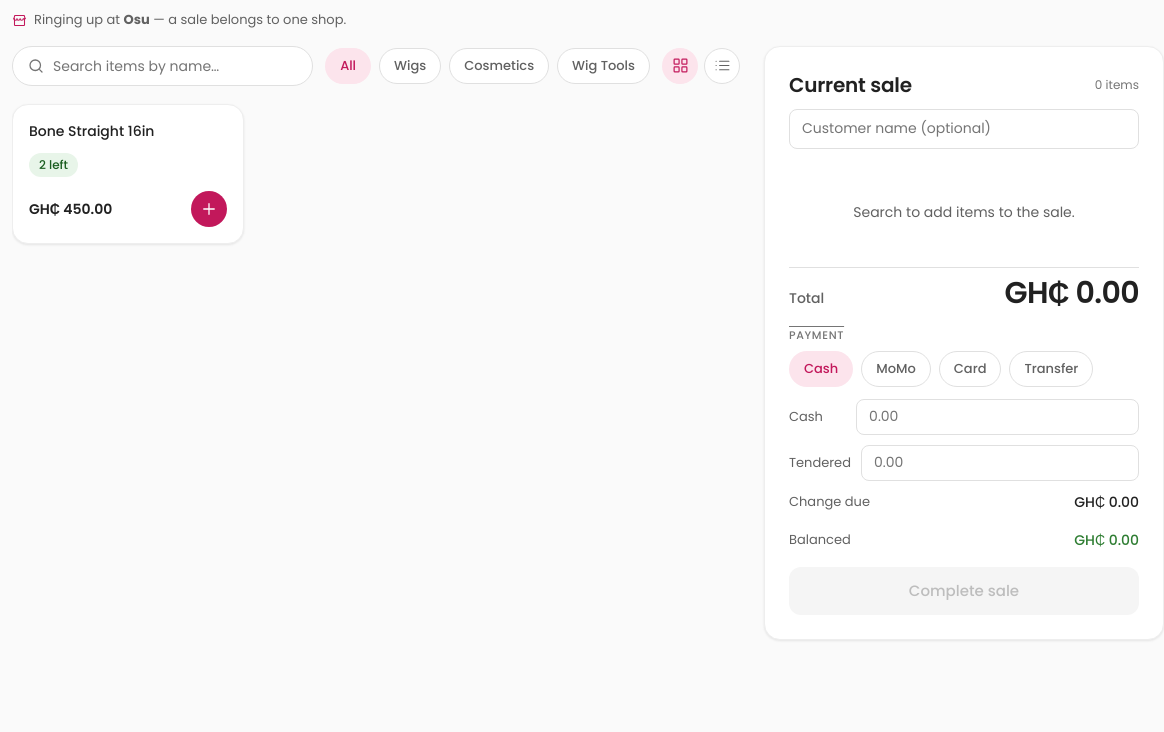
Test: SellView — background stock refresh and clamping (#31) › drops a line that has sold out entirely
Click the button named "Add Bone Straight 16in". click: (209, 209)
box: [191,191,227,227]
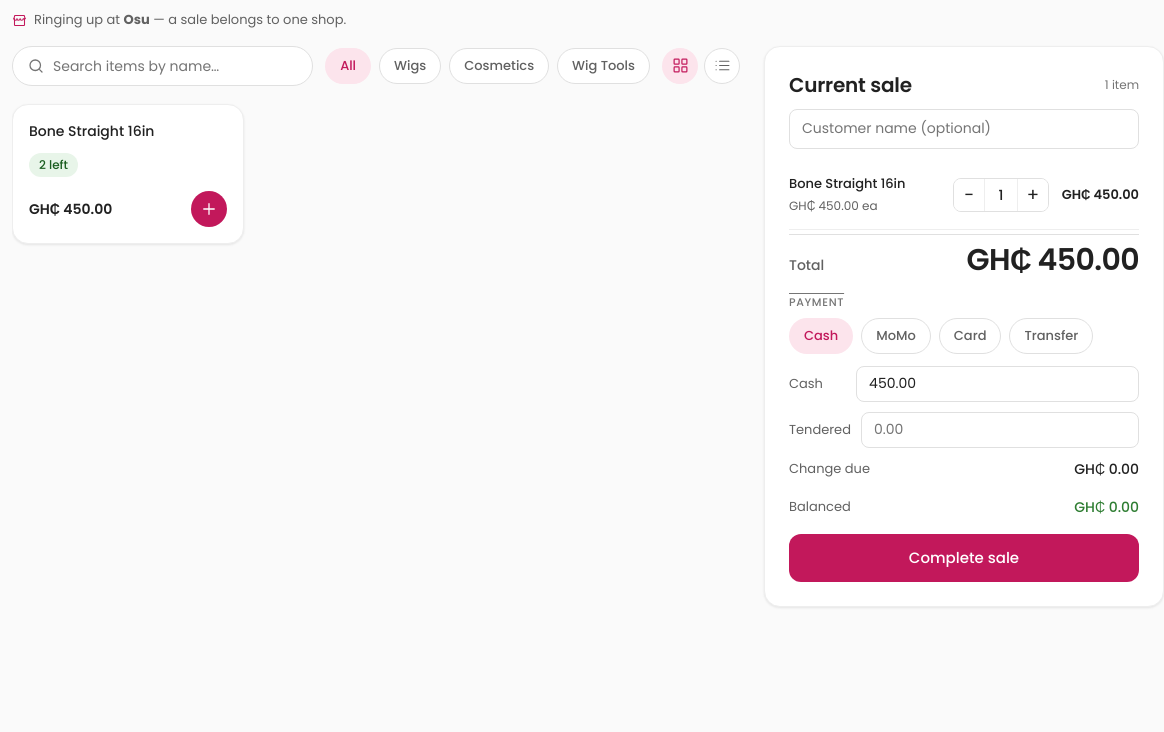
Click the button "Complete sale". click: (964, 558)
box: [789,534,1139,582]
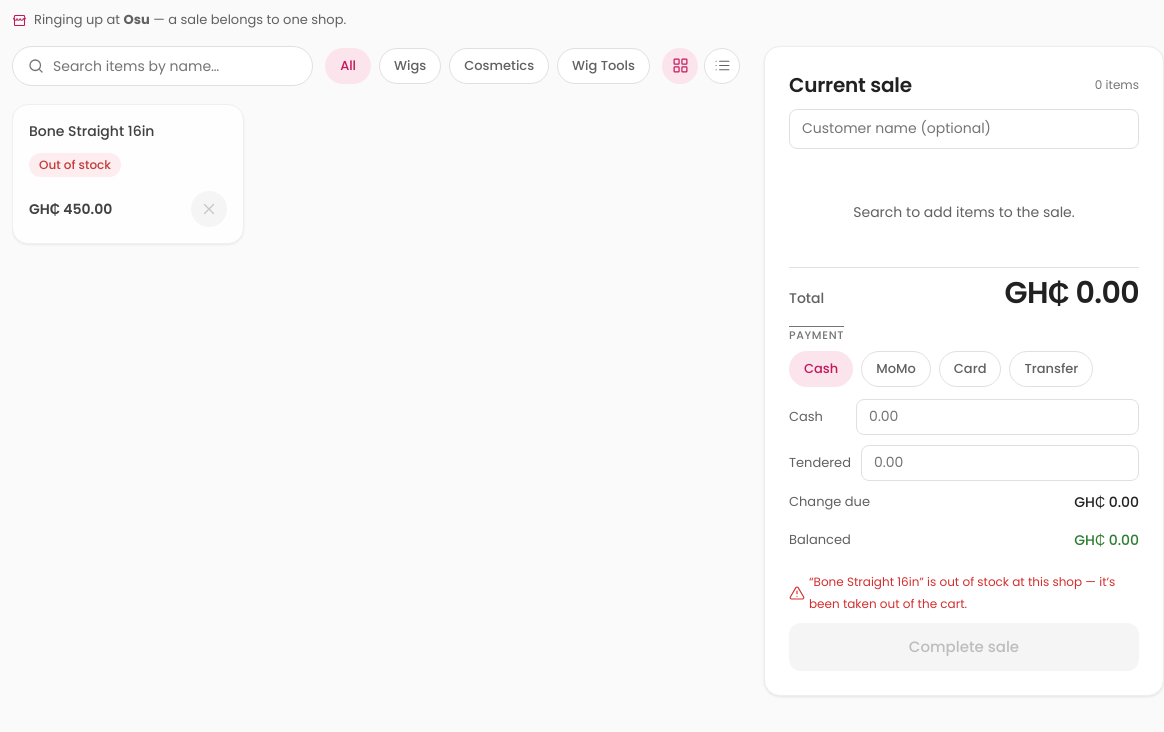
Expected: the message shows "out of stock at this shop — it’s been taken out of the cart", [809,573,1115,612]
Expected: the text "Search to add items to the sale." is shown, [853,202,1075,222]
Expected: the text "Out of stock" is shown, [29,153,121,177]
